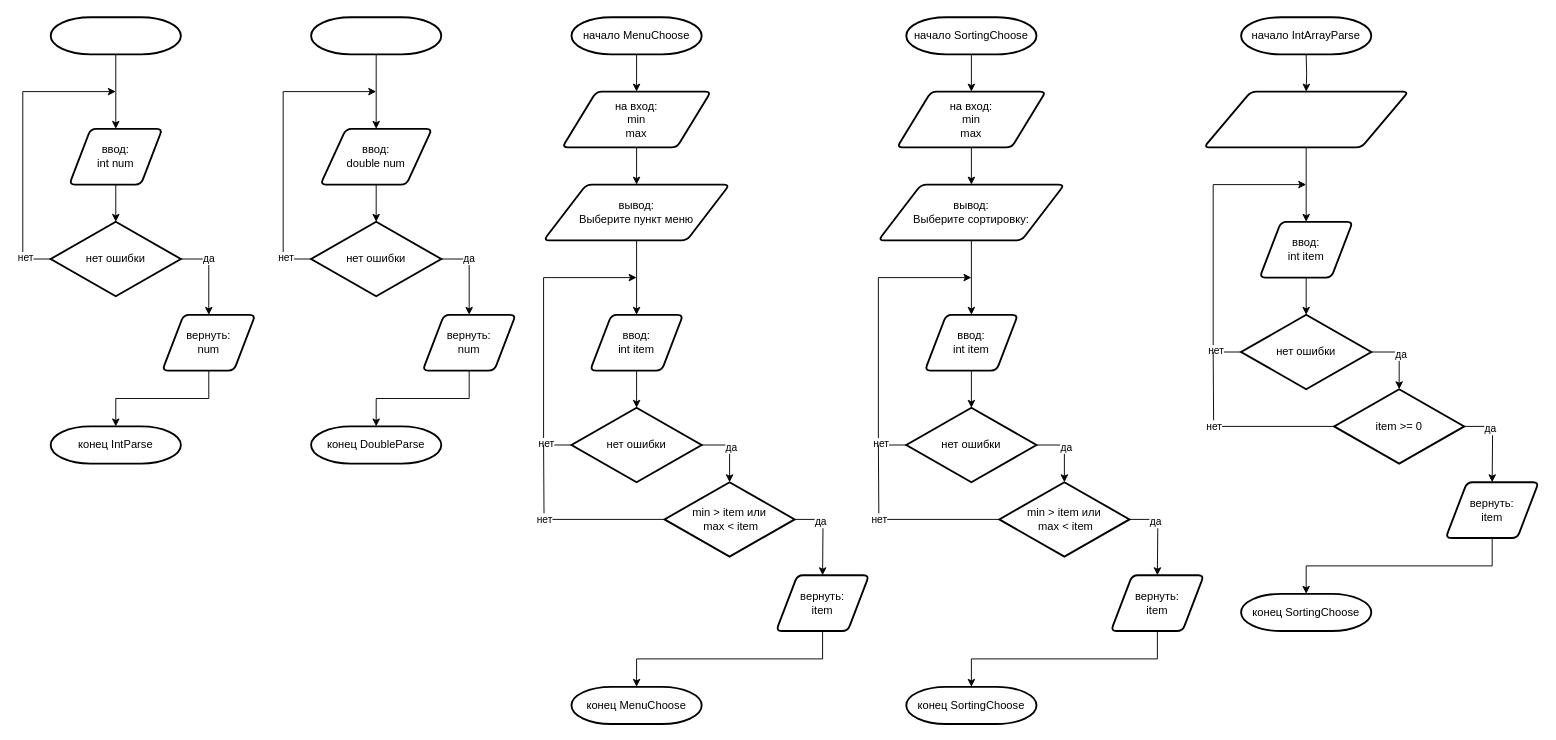
This 1556x740 diagram has some shape labels left out. Each missing label, with the box of its shape:
вывод: Введите размер массива: (1202, 90, 1409, 148)
начало DoubleParse: (310, 16, 442, 55)
начало IntParse: (49, 16, 181, 55)
